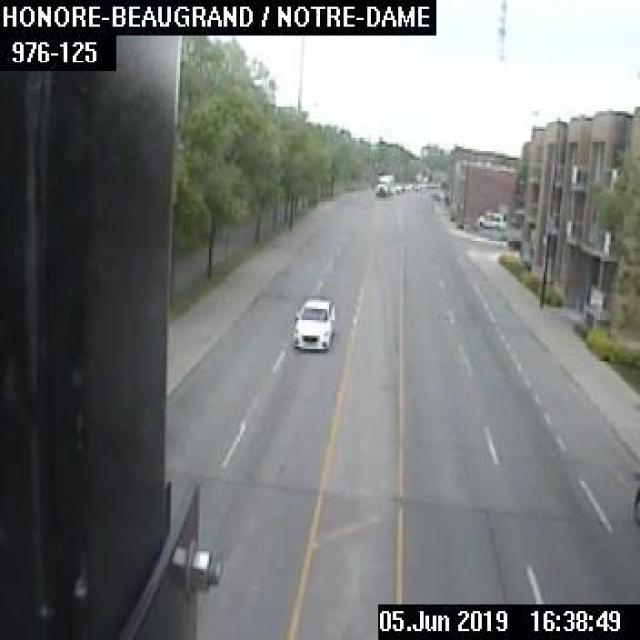vehicle: (289, 296, 334, 352), (477, 210, 504, 228), (373, 172, 392, 195)
